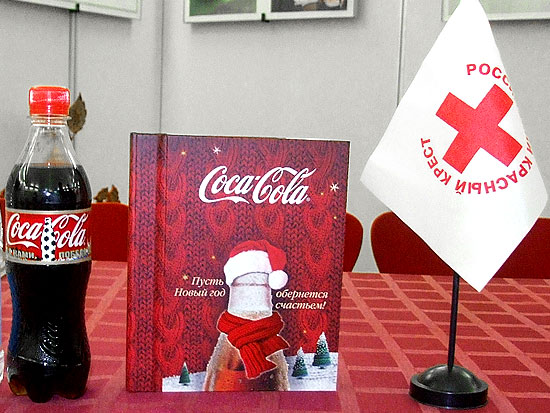coke: (8, 83, 89, 403)
